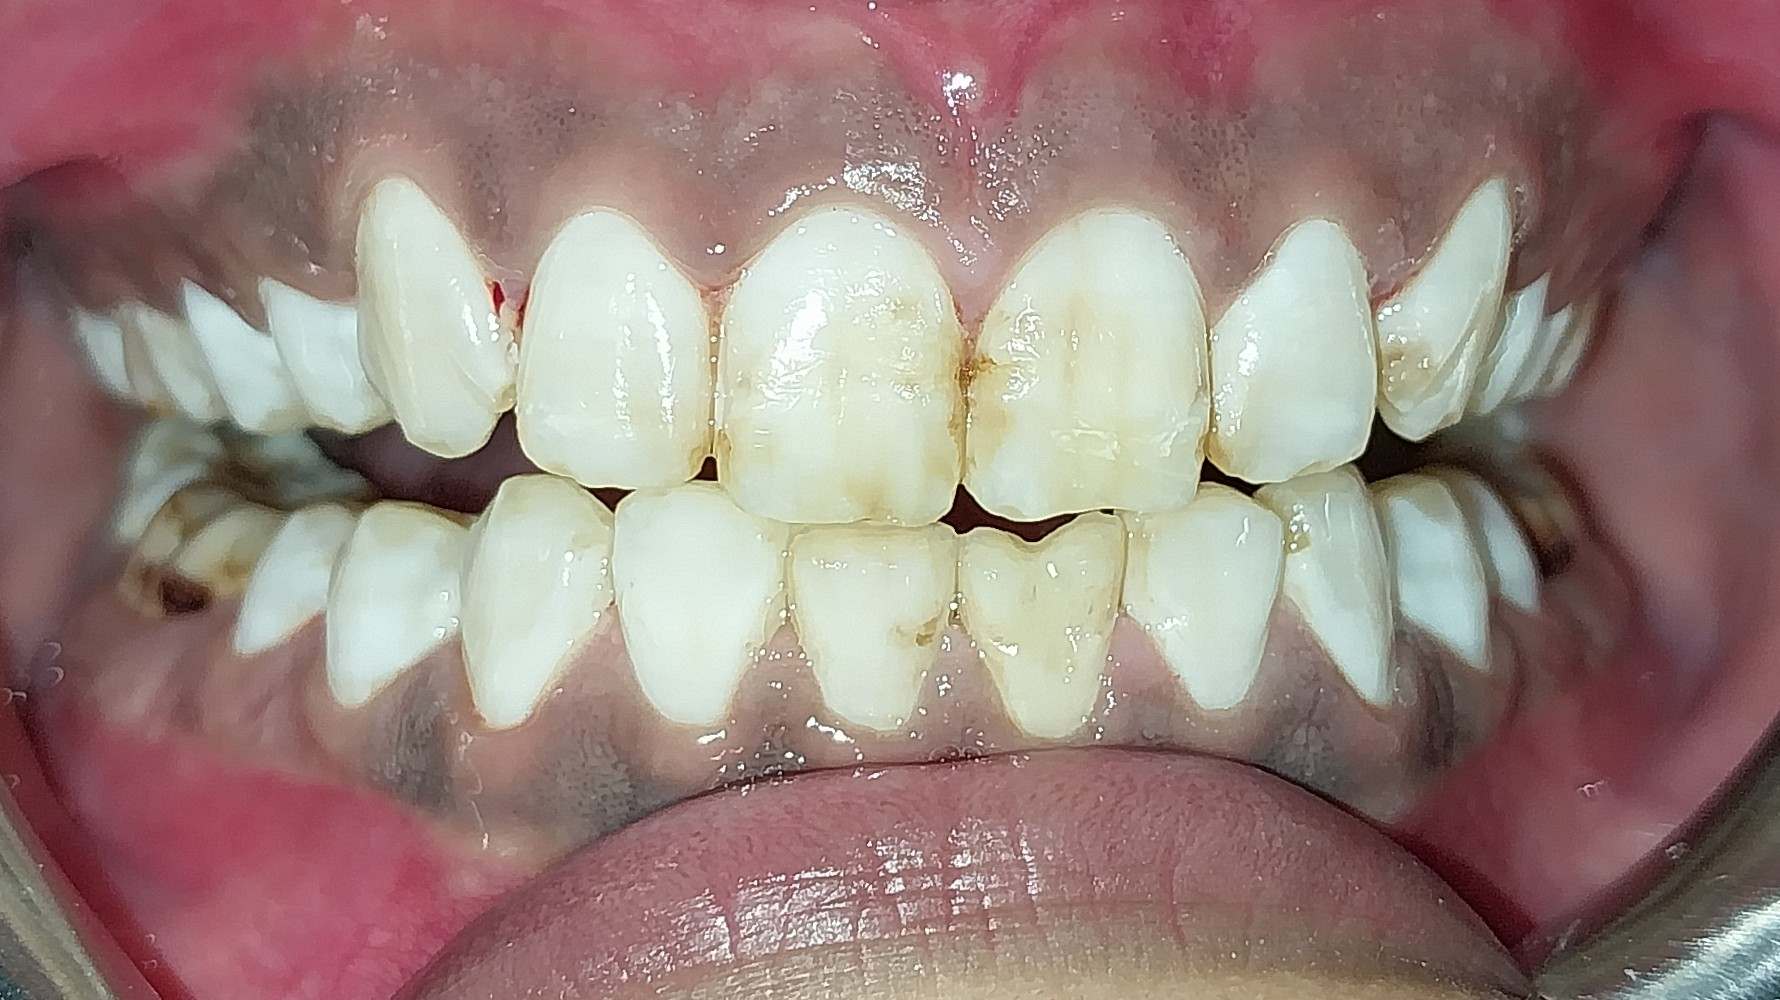D: (120, 474, 285, 614)
